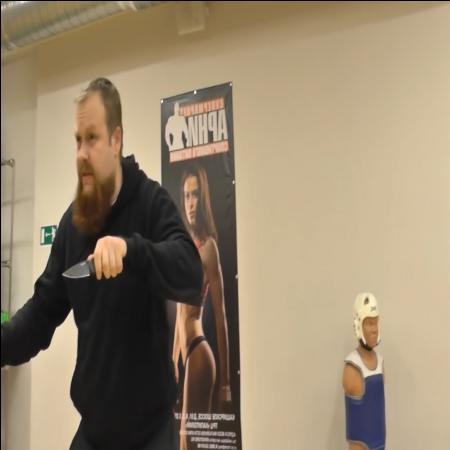long weapon: (58, 230, 122, 282)
